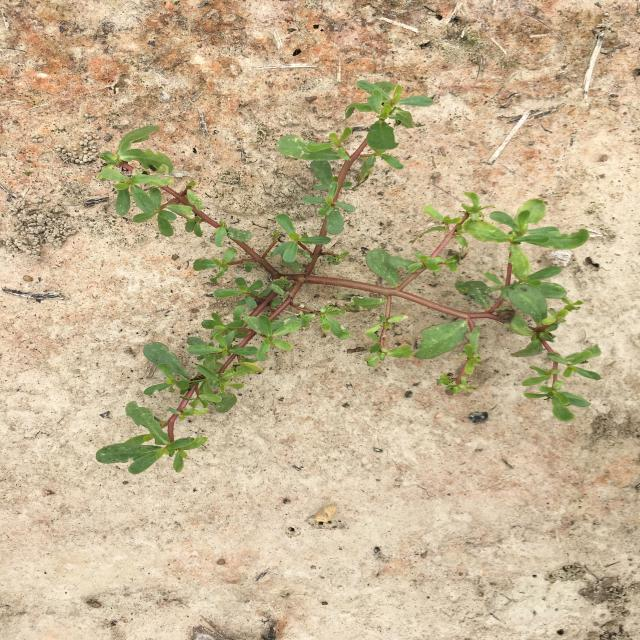Purslane: (95, 80, 602, 475)
